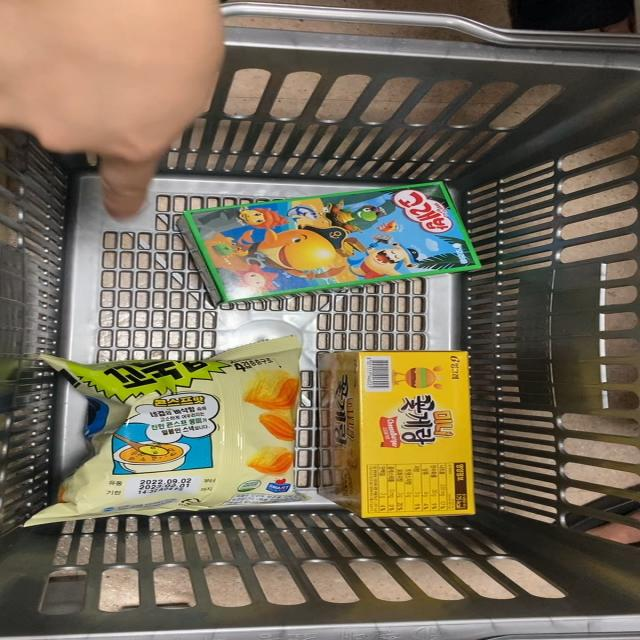ggobukchip: (18, 333, 326, 531)
goraebob: (156, 169, 494, 306)
minicrab: (316, 348, 489, 526)
